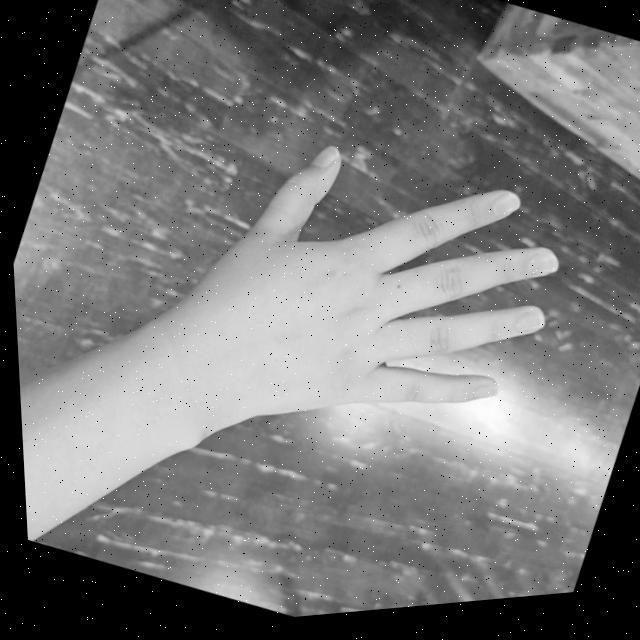no-gloves: (85, 76, 600, 586)
